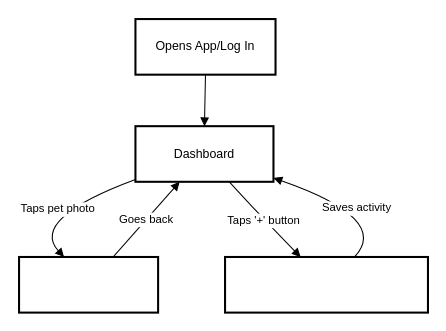
This 446x331 diagram has some shape labels left out. Each missing label, with the centre of its shape:
Log Activity Screen: the point at 326,284
Pet Profile: the point at 88,284
